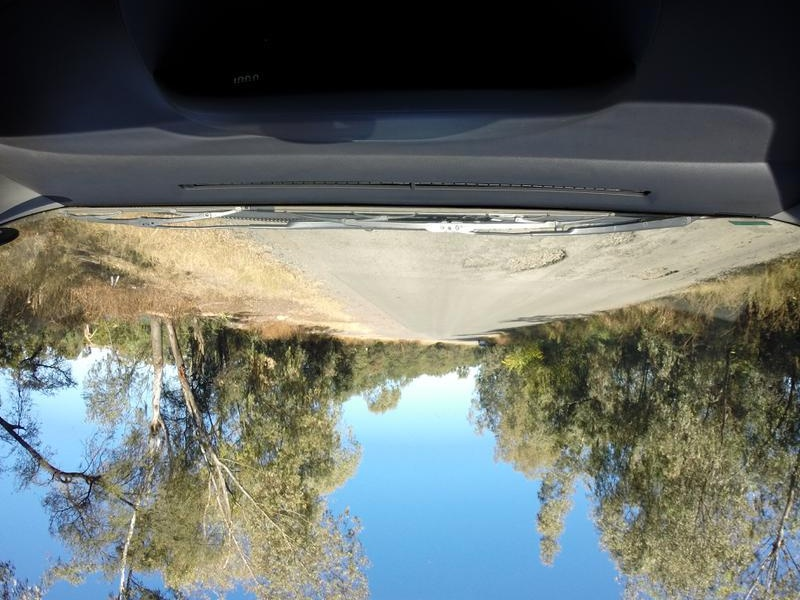pothole: (504, 251, 568, 279), (641, 257, 689, 283), (599, 232, 635, 255), (460, 253, 497, 273)
